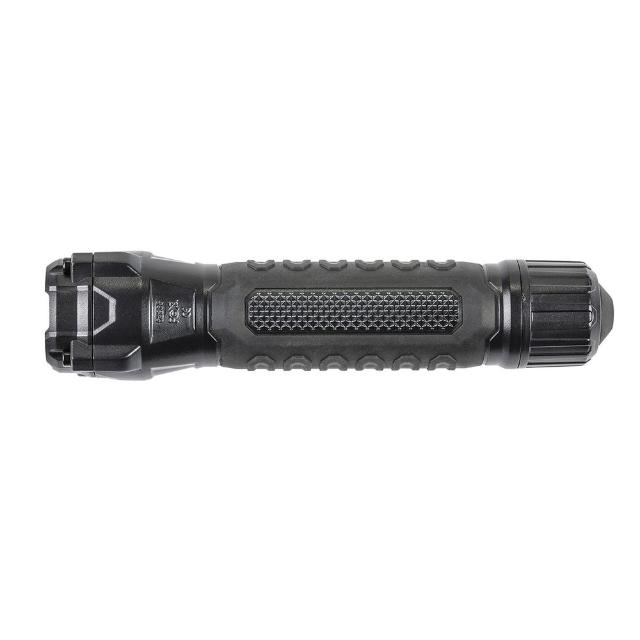Flashlight: (35, 242, 620, 390)
